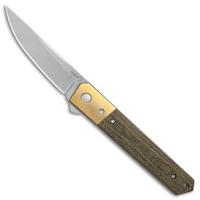knife: (3, 5, 197, 195)
